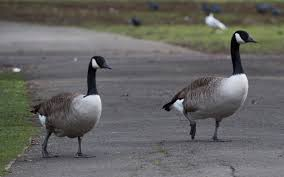goose: (158, 28, 260, 145), (27, 55, 112, 163)
